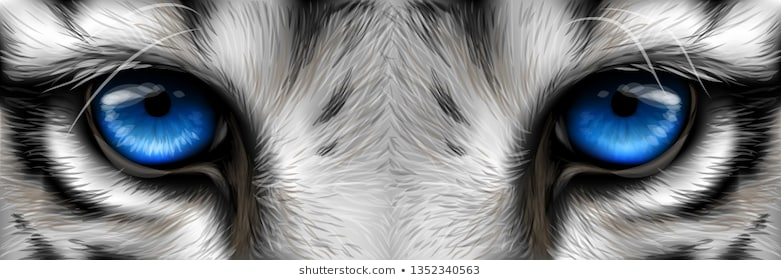Tigrew: (17, 10, 764, 253)
